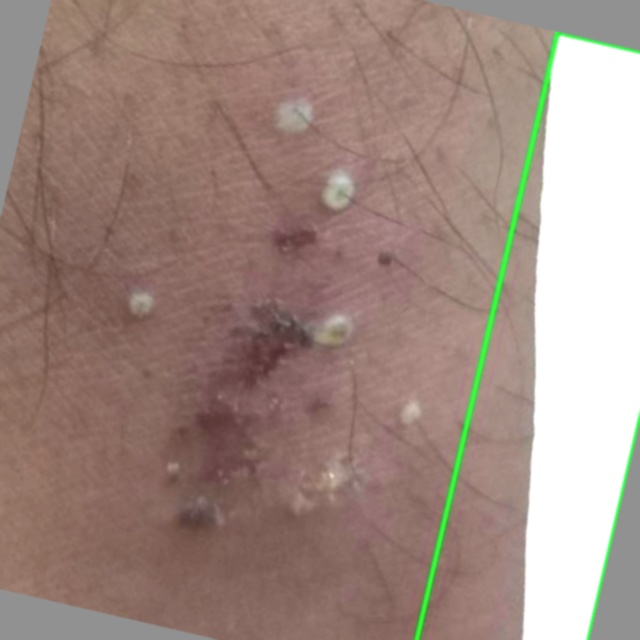Eczema: (416, 32, 639, 639)
